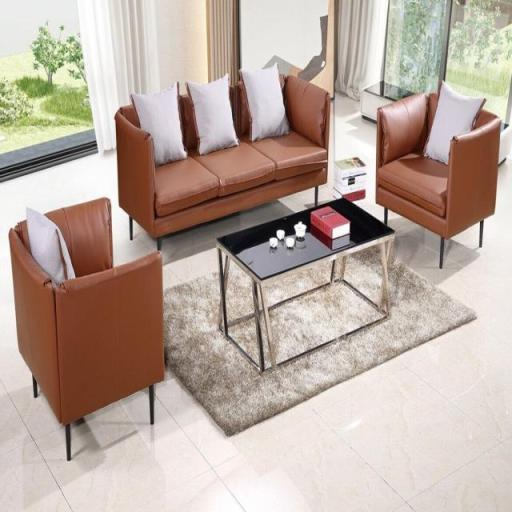sofa: (2, 190, 224, 452), (108, 67, 360, 240), (366, 76, 512, 265)
